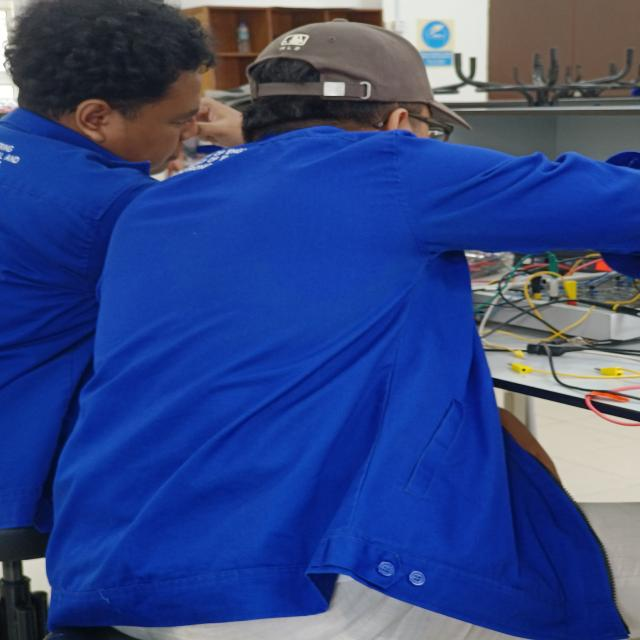person_with_labcoat: (46, 21, 640, 640), (0, 0, 215, 527)
